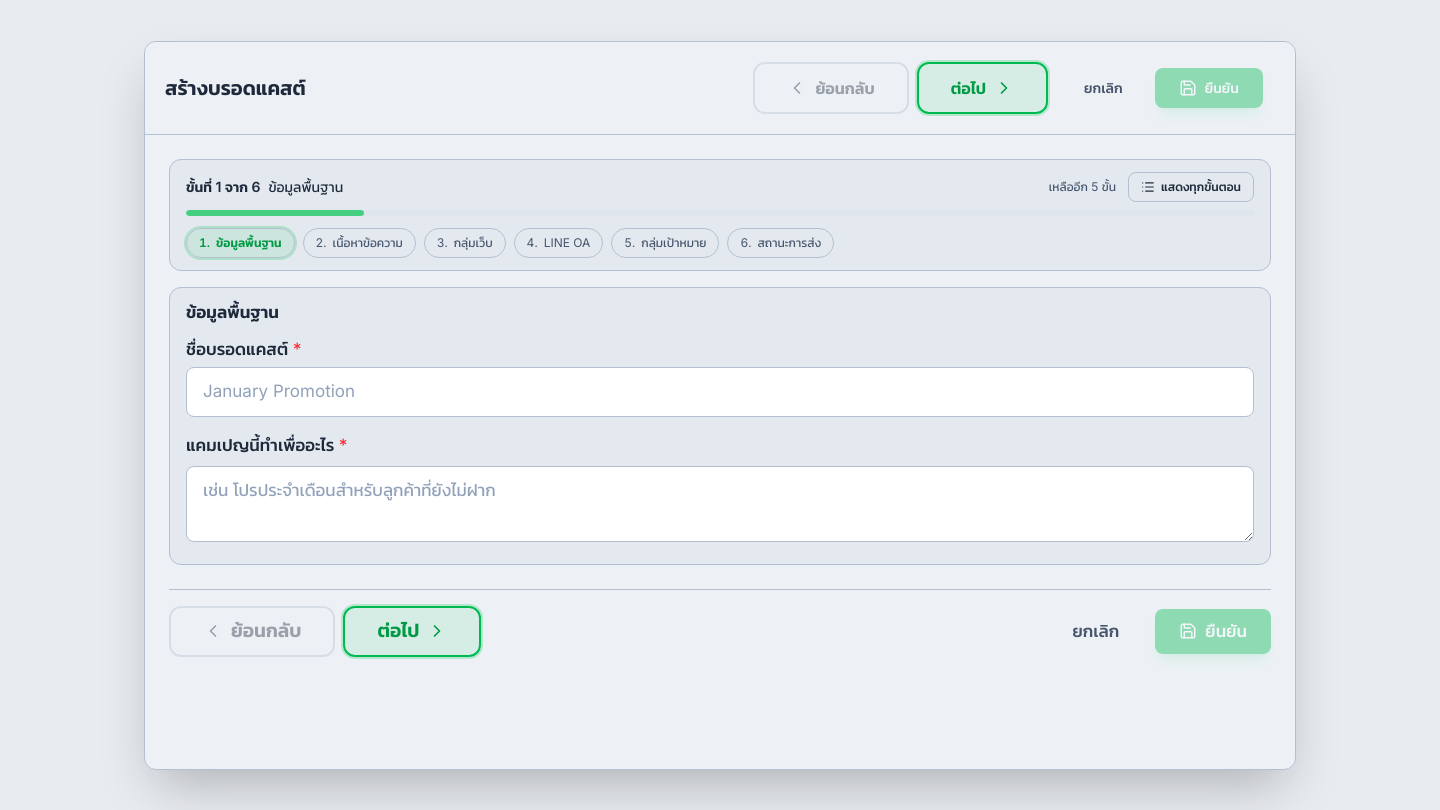
Test: [BCASTTAGFAMILIES] หน้าจอบอกว่าตัวแปรตระกูลไหนใช้ได้ › ยังไม่เลือกวิธีส่ง = ไม่มีบล็อกนี้ให้รก
This screenshot has width=1440, height=810.
Click the button with test id "-toggle": {"x": 1191, "y": 186} [1128,172,1254,202]
(page scrolled)
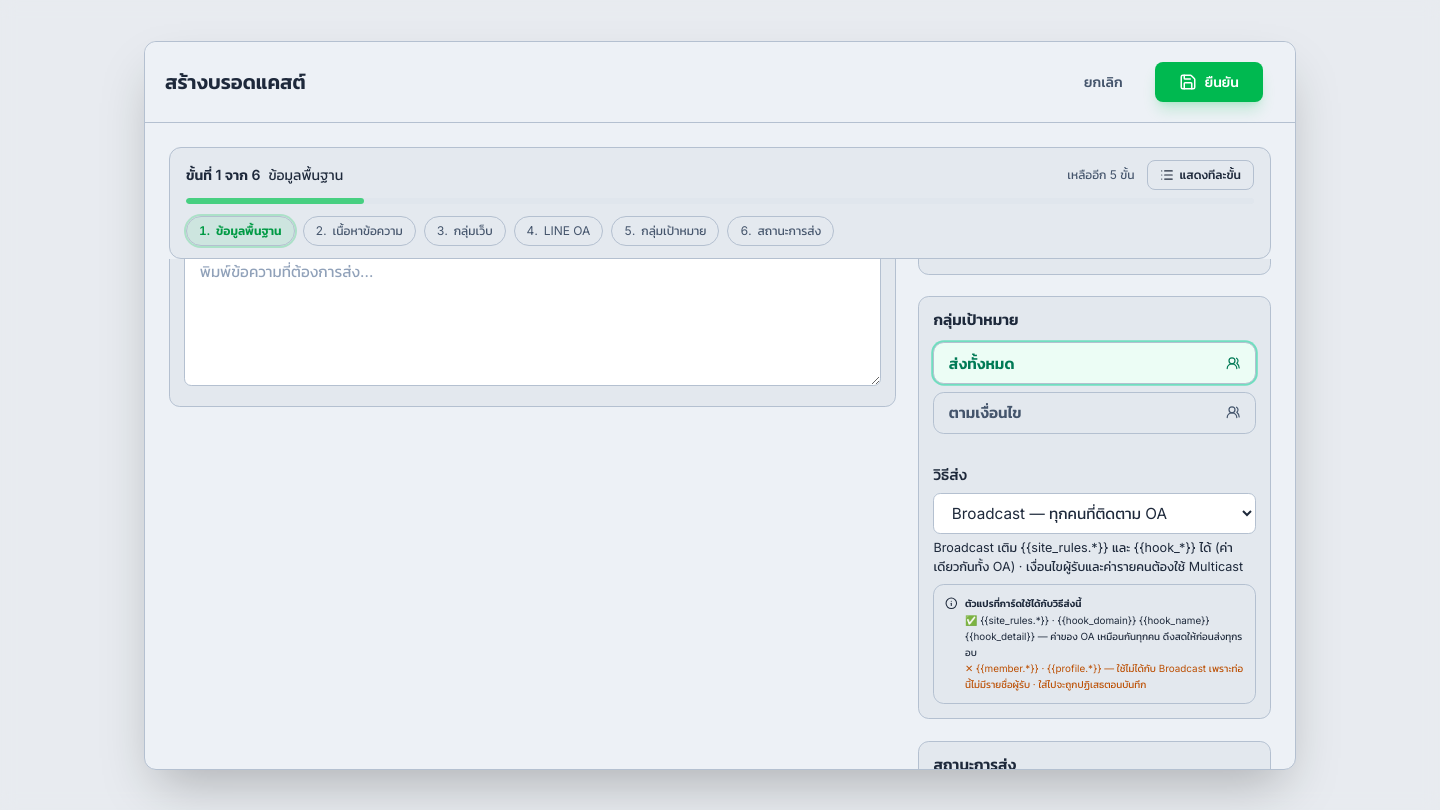
Expected: the dropdown named "send_kind" is shown
Select "" in the dropdown named "send_kind": {"x": 1095, "y": 513} [934,493,1256,534]
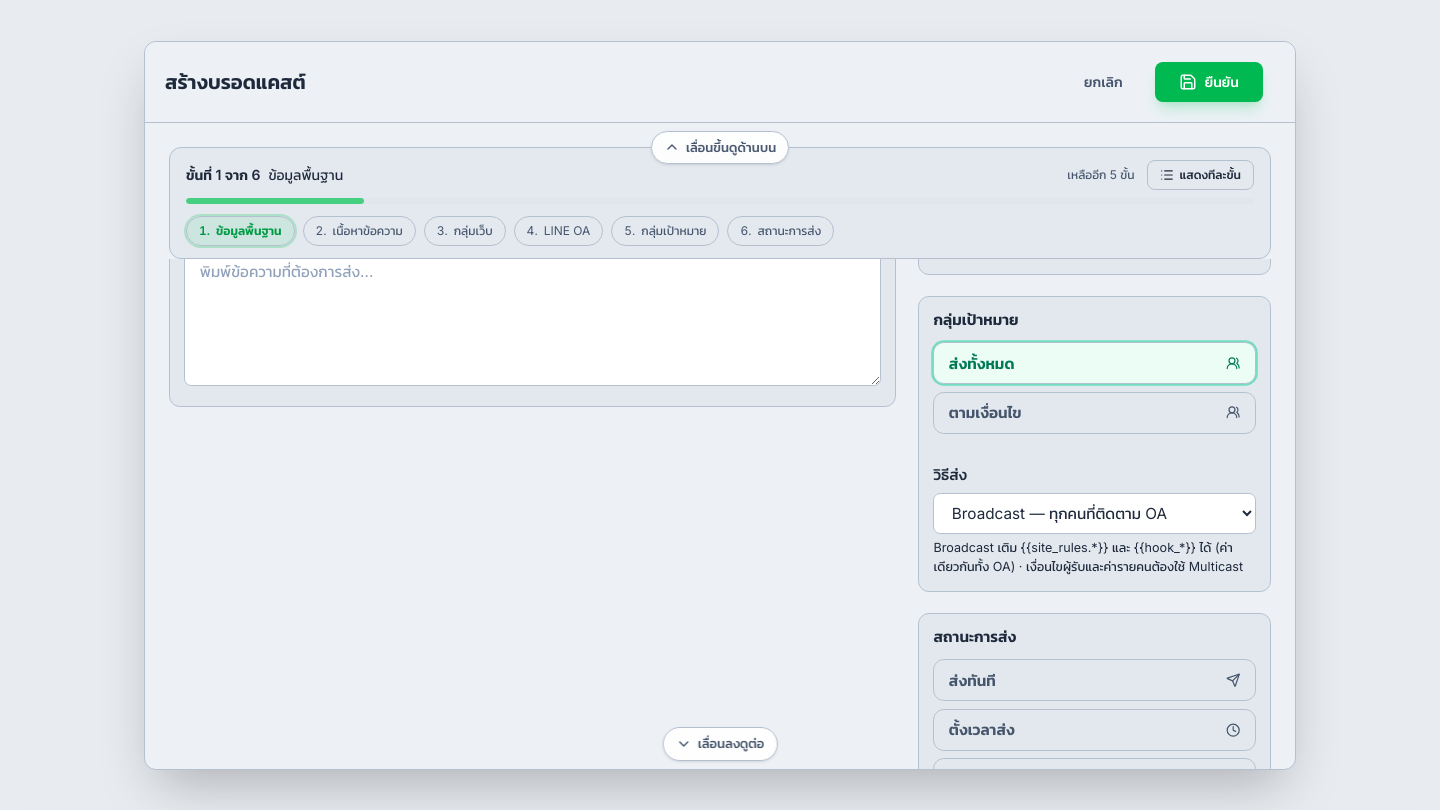
Expected: the element with test id "broadcast-tag-families" is gone
